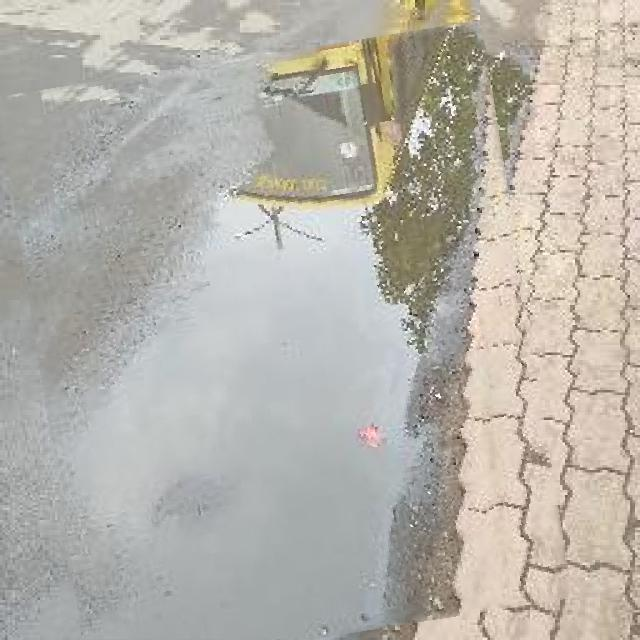puddle: (17, 38, 551, 640)
